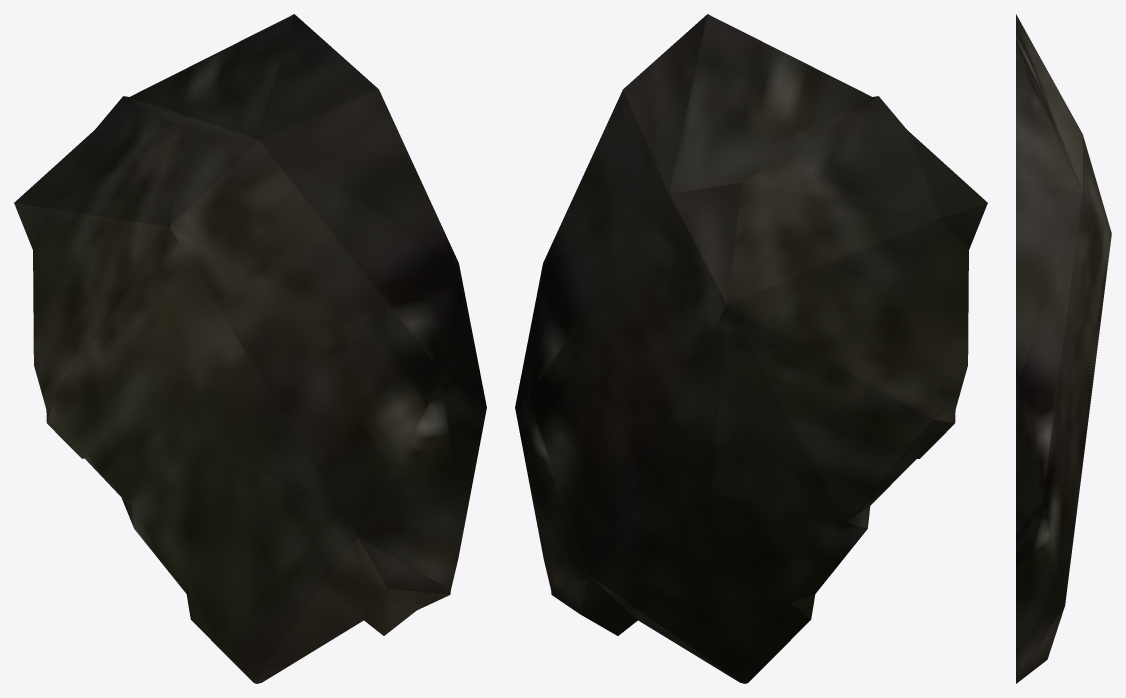
The picture shows the model from 3 angles, left to right: view 1: azimuth 30°, elevation 25°; view 2: azimuth 150°, elevation 25°; view 3: azimuth 270°, elevation 25°; orthographic projection. The views are drawn at different scales.
Size of the model in its own units: 0.5193 by 0.6933 by 0.1003.
Materials: 1 (1 with a texture image).
